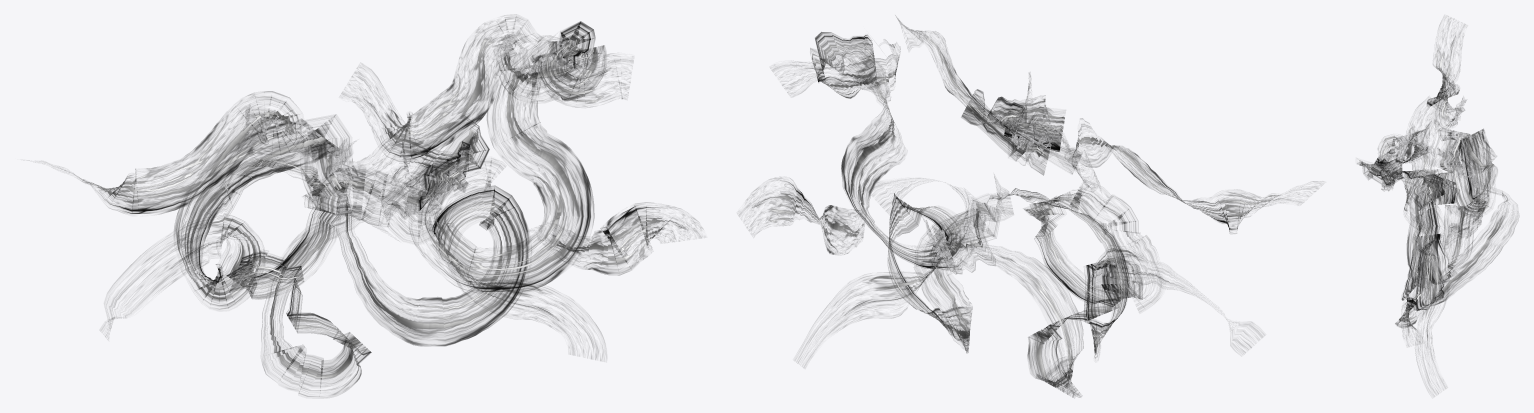
File: horse.glb
3 renders of one model, left to right at view 1: azimuth 30°, elevation 25°; view 2: azimuth 150°, elevation 25°; view 3: azimuth 270°, elevation 25°, orthographic. The views are drawn at different scales.
Visible parts, largest first — view 1: NewOfflineLineRendererPrefab_1_Clone__4, NewOfflineLineRendererPrefab_1_Clone__1, NewOfflineLineRendererPrefab_1_Clone__3, NewOfflineLineRendererPrefab_1_Clone_, NewOfflineLineRendererPrefab_1_Clone__5, NewOfflineLineRendererPrefab_1_Clone__6, NewOfflineLineRendererPrefab_1_Clone__8, NewOfflineLineRendererPrefab_1_Clone__7, NewOfflineLineRendererPrefab_1_Clone__2; view 2: NewOfflineLineRendererPrefab_1_Clone_, NewOfflineLineRendererPrefab_1_Clone__1, NewOfflineLineRendererPrefab_1_Clone__7, NewOfflineLineRendererPrefab_1_Clone__3, NewOfflineLineRendererPrefab_1_Clone__4, NewOfflineLineRendererPrefab_1_Clone__6, NewOfflineLineRendererPrefab_1_Clone__5, NewOfflineLineRendererPrefab_1_Clone__2, NewOfflineLineRendererPrefab_1_Clone__8; view 3: NewOfflineLineRendererPrefab_1_Clone_, NewOfflineLineRendererPrefab_1_Clone__1, NewOfflineLineRendererPrefab_1_Clone__4, NewOfflineLineRendererPrefab_1_Clone__6, NewOfflineLineRendererPrefab_1_Clone__5, NewOfflineLineRendererPrefab_1_Clone__7, NewOfflineLineRendererPrefab_1_Clone__3, NewOfflineLineRendererPrefab_1_Clone__8, NewOfflineLineRendererPrefab_1_Clone__2.
Boxes of the visible parts, x1,y1,x2,y2 form: NewOfflineLineRendererPrefab_1_Clone__4: [104, 115, 439, 336]; NewOfflineLineRendererPrefab_1_Clone__1: [324, 140, 603, 360]; NewOfflineLineRendererPrefab_1_Clone__3: [409, 36, 594, 292]; NewOfflineLineRendererPrefab_1_Clone_: [178, 158, 371, 396]; NewOfflineLineRendererPrefab_1_Clone__5: [60, 91, 303, 213]; NewOfflineLineRendererPrefab_1_Clone__6: [494, 21, 632, 106]; NewOfflineLineRendererPrefab_1_Clone__8: [342, 16, 539, 161]; NewOfflineLineRendererPrefab_1_Clone__7: [360, 115, 489, 220]; NewOfflineLineRendererPrefab_1_Clone__2: [540, 202, 702, 275]; NewOfflineLineRendererPrefab_1_Clone_: [979, 185, 1161, 397]; NewOfflineLineRendererPrefab_1_Clone__1: [798, 176, 1013, 362]; NewOfflineLineRendererPrefab_1_Clone__7: [961, 89, 1081, 175]; NewOfflineLineRendererPrefab_1_Clone__3: [840, 50, 973, 269]; NewOfflineLineRendererPrefab_1_Clone__4: [924, 188, 1262, 358]; NewOfflineLineRendererPrefab_1_Clone__6: [773, 32, 900, 100]; NewOfflineLineRendererPrefab_1_Clone__5: [1065, 118, 1317, 233]; NewOfflineLineRendererPrefab_1_Clone__2: [739, 178, 866, 254]; NewOfflineLineRendererPrefab_1_Clone__8: [896, 17, 1032, 147]; NewOfflineLineRendererPrefab_1_Clone_: [1407, 128, 1473, 284]; NewOfflineLineRendererPrefab_1_Clone__1: [1414, 166, 1516, 393]; NewOfflineLineRendererPrefab_1_Clone__4: [1437, 129, 1497, 244]; NewOfflineLineRendererPrefab_1_Clone__6: [1399, 146, 1445, 228]; NewOfflineLineRendererPrefab_1_Clone__5: [1427, 18, 1466, 130]; NewOfflineLineRendererPrefab_1_Clone__7: [1357, 136, 1403, 190]; NewOfflineLineRendererPrefab_1_Clone__3: [1401, 169, 1442, 300]; NewOfflineLineRendererPrefab_1_Clone__8: [1395, 102, 1438, 163]; NewOfflineLineRendererPrefab_1_Clone__2: [1395, 278, 1427, 345].
Bounding box in the file's own units: 2.07 × 1.15 × 0.7216.
Materials: 9 (9 with a texture image).
